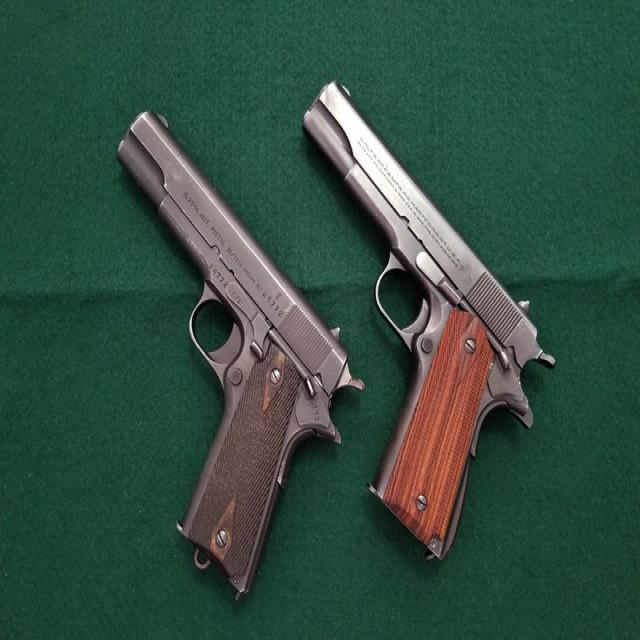HandGun: (116, 112, 366, 600), (303, 83, 556, 561)
